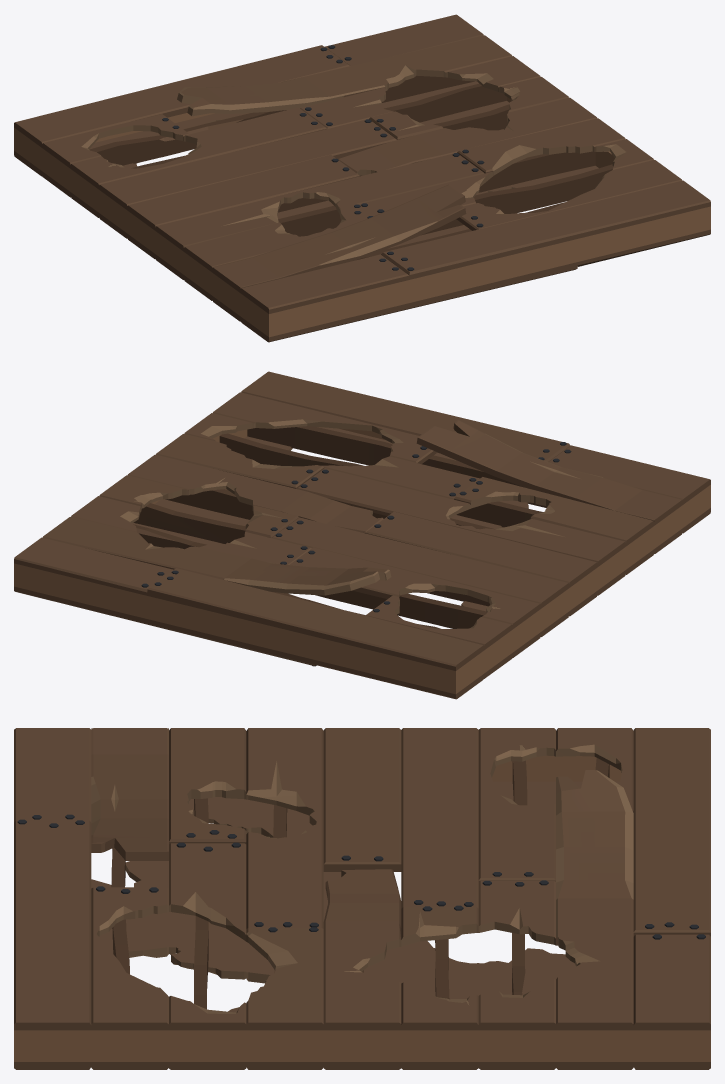
File: SM_Floor_Broken_Lvl_1.glb
3 views of the same model, one above another, from view 1: azimuth 30°, elevation 25°; view 2: azimuth 150°, elevation 25°; view 3: azimuth 270°, elevation 25° (orthographic). The views are drawn at different scales.
Visible parts, largest first — view 1: SM_Floor_Broken_Lvl_1; view 2: SM_Floor_Broken_Lvl_1; view 3: SM_Floor_Broken_Lvl_1.
Part boxes in pixels (x1,y1,x2,y2): SM_Floor_Broken_Lvl_1: (14, 14, 710, 342); SM_Floor_Broken_Lvl_1: (14, 371, 710, 699); SM_Floor_Broken_Lvl_1: (14, 728, 710, 1069).
Size of the model in its own units: 2 by 0.2935 by 2.
Materials: 1 (1 with a texture image).
